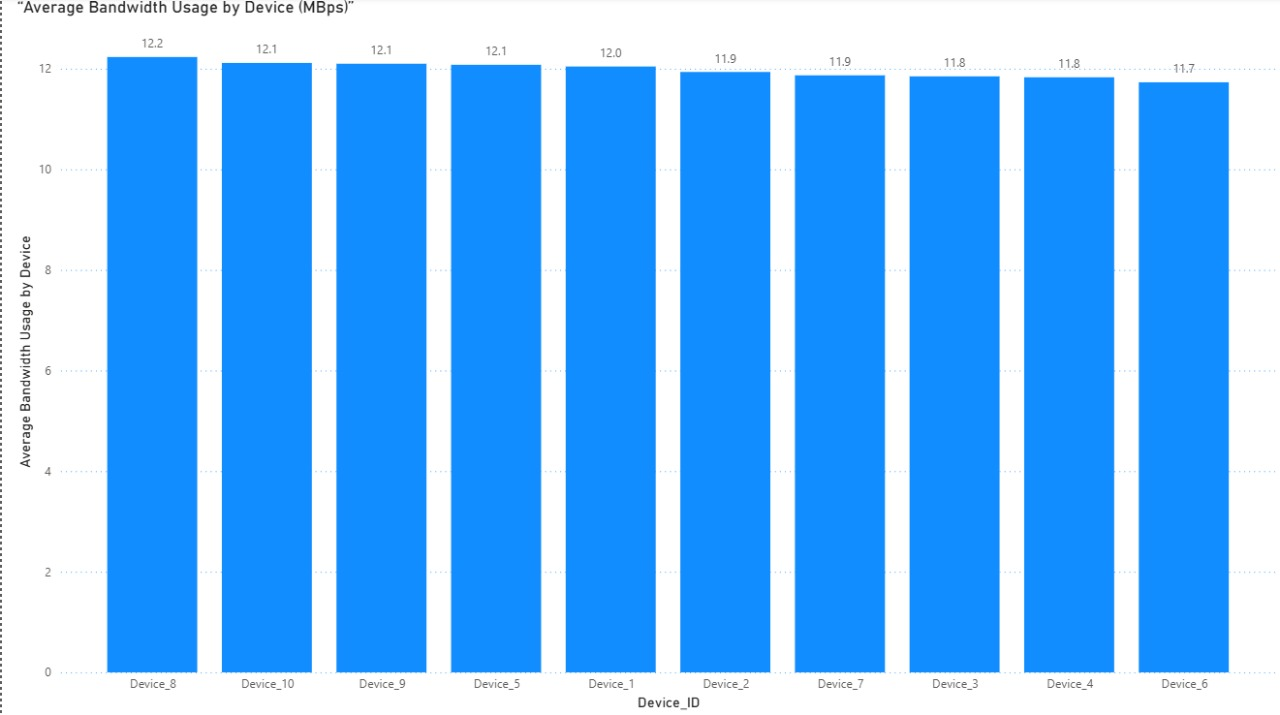

The page's visual inventory and layout, read from the dashboard file:
{"tool":"powerbi","page":{"name":"“Average Bandwidth Usage by Device (MBps)”","canvas":[1280,720],"ordinal":2},"visuals":[{"type":"clusteredColumnChart","title":"“Average Bandwidth Usage by Device (MBps)”","fields":{"Category":["network_performance_dataset.Device_ID"],"Y":["Avg(network_performance_dataset.Bandwidth_MBps)"]},"box":[10,0,1270.7,719],"z":0}]}

Visuals, with their boxes in screenshot pixels (x1, y1, x2, y2), scaled from the page's 1280x720 canvas onto the 1280x715 screenshot:
"“Average Bandwidth Usage by Device (MBps)”" clusteredColumnChart: bbox(10, 0, 1279, 714)
